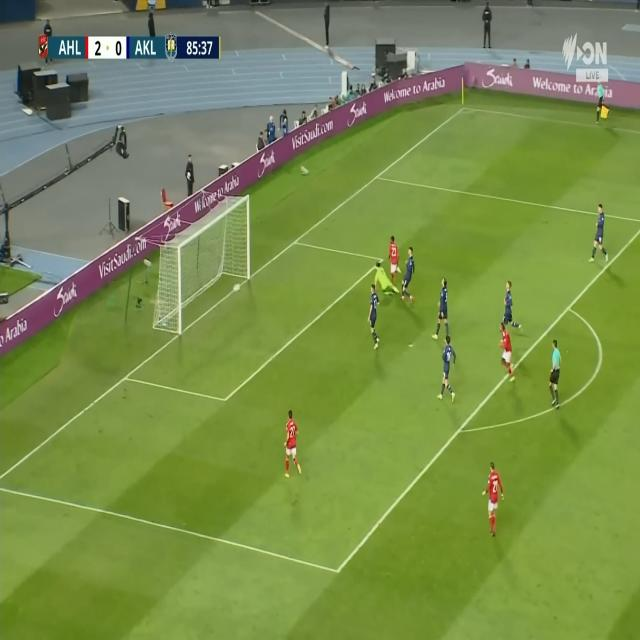Ball: (233, 281, 241, 292)
Keeper: (373, 262, 400, 298)
Player: (480, 460, 506, 540), (431, 278, 455, 344), (439, 336, 458, 404), (589, 203, 610, 264), (502, 280, 524, 338), (284, 410, 301, 479), (498, 322, 516, 385), (368, 284, 382, 352), (386, 235, 401, 289), (401, 248, 414, 305)
Ref: (547, 339, 563, 415), (593, 80, 610, 128)
